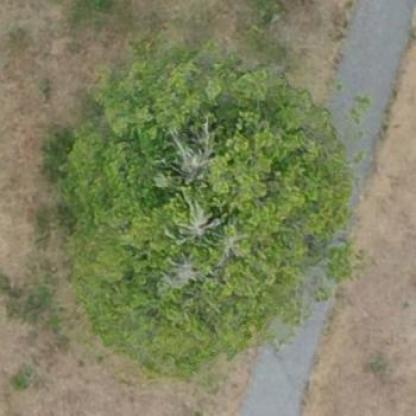Coniferous Tree: (45, 64, 364, 374)
